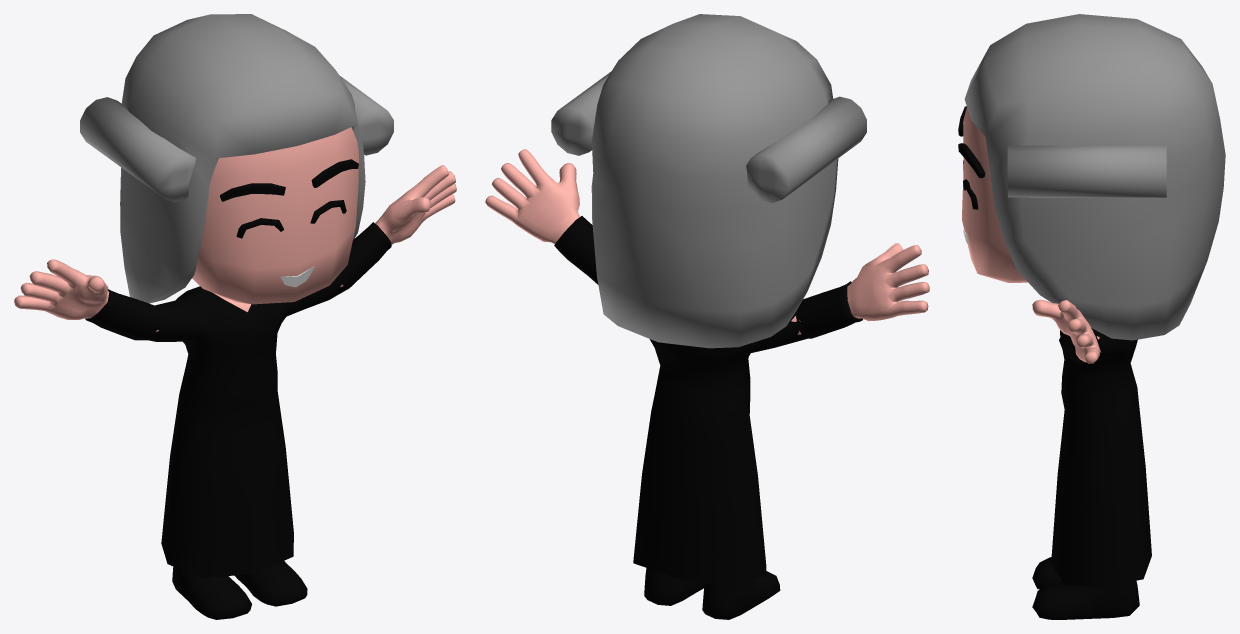
File: Personaje_juzgado_3.fbx
The picture shows the model from 3 angles, left to right: view 1: azimuth 30°, elevation 25°; view 2: azimuth 150°, elevation 25°; view 3: azimuth 270°, elevation 25°; orthographic projection.
Visible parts, largest first — view 1: hair4.021, shirt3.075, body.097, socks.046, eyebrows1.079, eyes5; view 2: hair4.021, shirt3.075, body.097, socks.046; view 3: hair4.021, shirt3.075, body.097, socks.046, eyebrows1.079.
Boxes of the visible parts, box(x1,y1,x2,y2) form: hair4.021: box(80, 14, 393, 303); shirt3.075: box(85, 222, 391, 578); body.097: box(14, 127, 456, 331); socks.046: box(172, 561, 307, 619); eyebrows1.079: box(220, 159, 358, 201); eyes5: box(236, 200, 346, 238); hair4.021: box(551, 14, 866, 348); shirt3.075: box(554, 216, 862, 586); body.097: box(485, 149, 929, 334); socks.046: box(644, 568, 780, 619); hair4.021: box(964, 14, 1225, 340); shirt3.075: box(1051, 328, 1151, 587); body.097: box(962, 107, 1100, 363); socks.046: box(1032, 557, 1139, 619); eyebrows1.079: box(958, 106, 985, 178).
Size of the model in its own units: 139 by 172 by 72.72.
